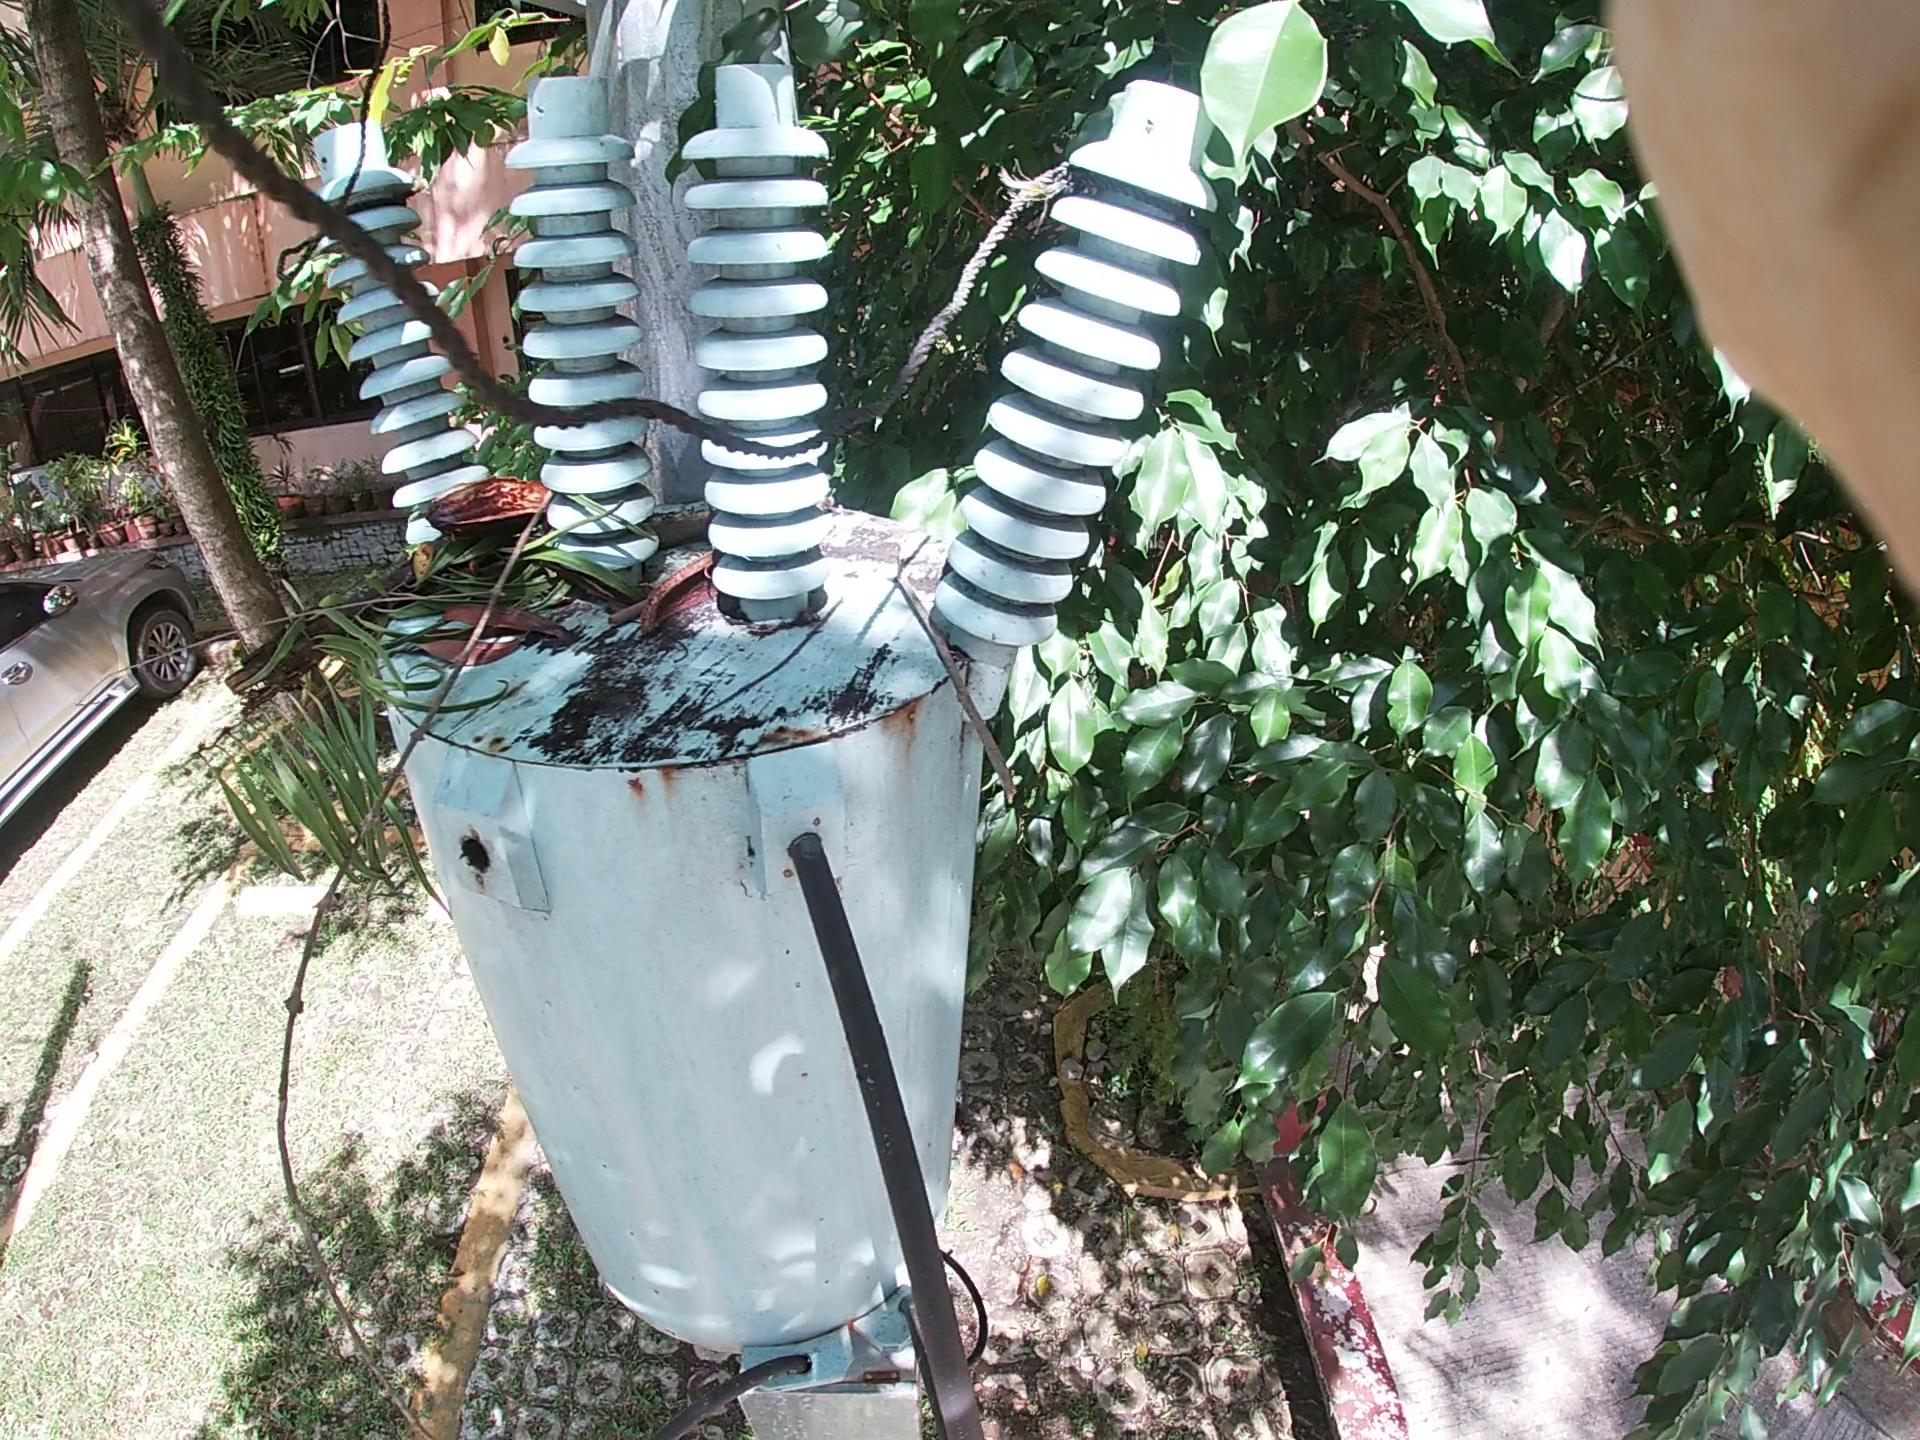branch with leaves: (168, 374, 584, 985)
leaf: (419, 560, 523, 720)
mahogany fruit: (419, 446, 621, 575)
tree branch: (174, 464, 641, 1265), (883, 535, 1017, 871), (668, 421, 729, 659)
